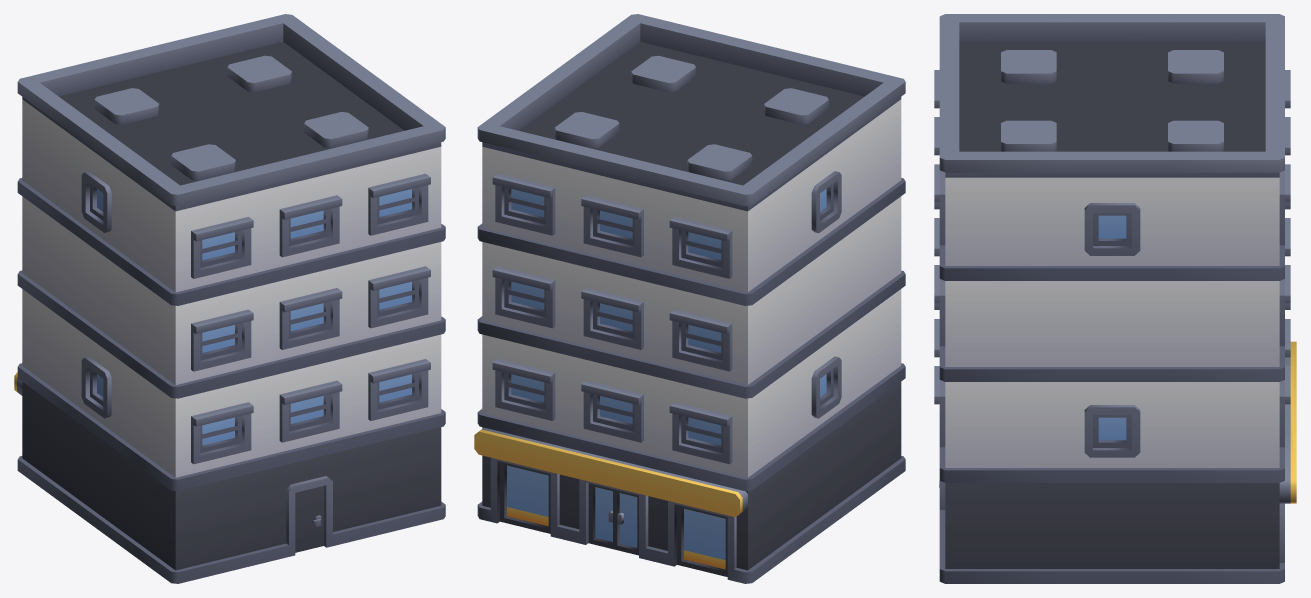
The model's file is building-i.glb.
3 renders of one model, left to right at view 1: azimuth 30°, elevation 25°; view 2: azimuth 150°, elevation 25°; view 3: azimuth 270°, elevation 25°, orthographic. The views are drawn at different scales.
Visible parts, largest first — view 1: building-i; view 2: building-i; view 3: building-i.
Boxes of the visible parts, box(x1,y1,x2,y2) form: building-i: box(14, 14, 445, 583); building-i: box(474, 14, 905, 583); building-i: box(934, 14, 1296, 583).
Bounding box in the file's own units: 1.24 × 1.68 × 1.3.
1 material, 1 textured.
